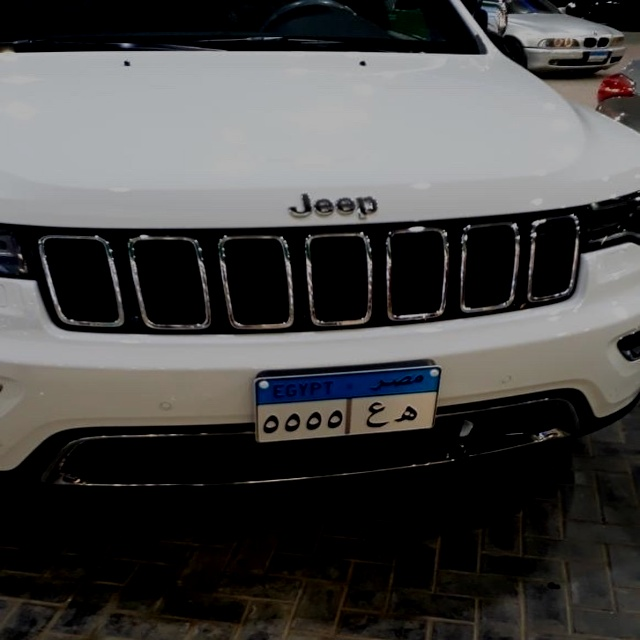License Plate: (249, 363, 444, 446)
